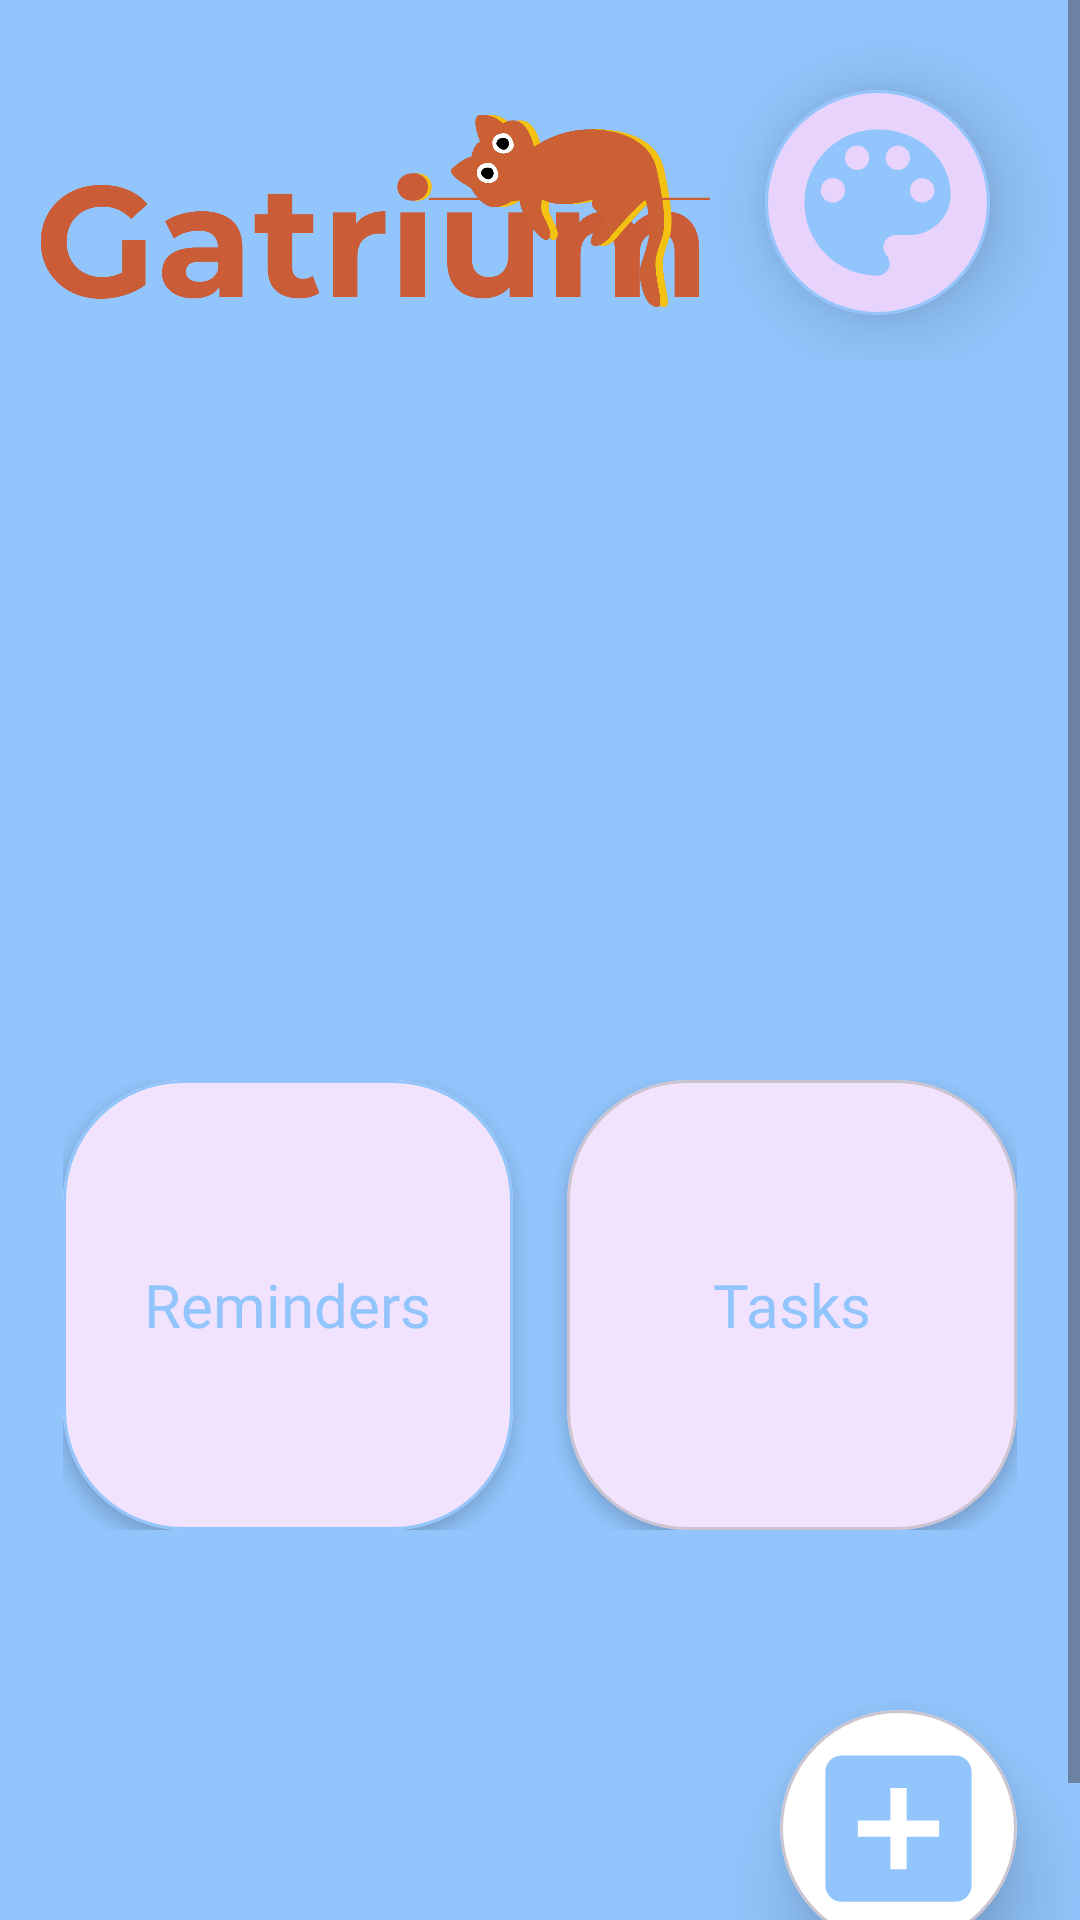

Screen size 1080px×1920px. Icon name, then its center in pixels as (x,y):
add box: (898,1825)
